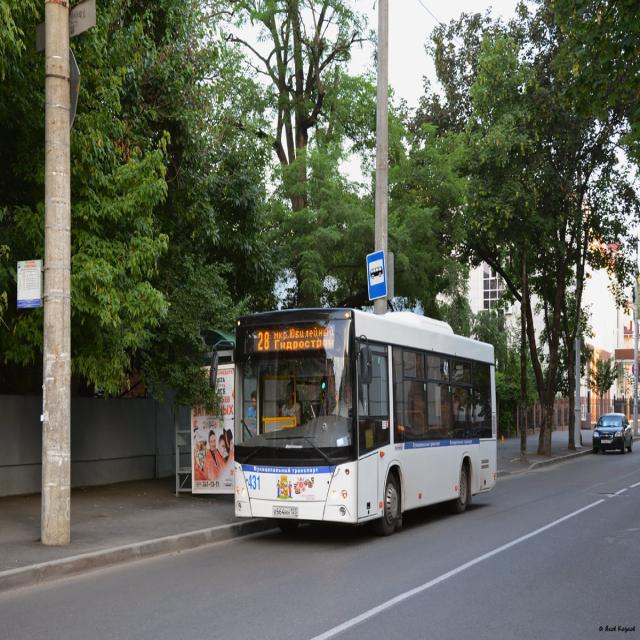number-of-bus: (257, 333, 272, 352)
